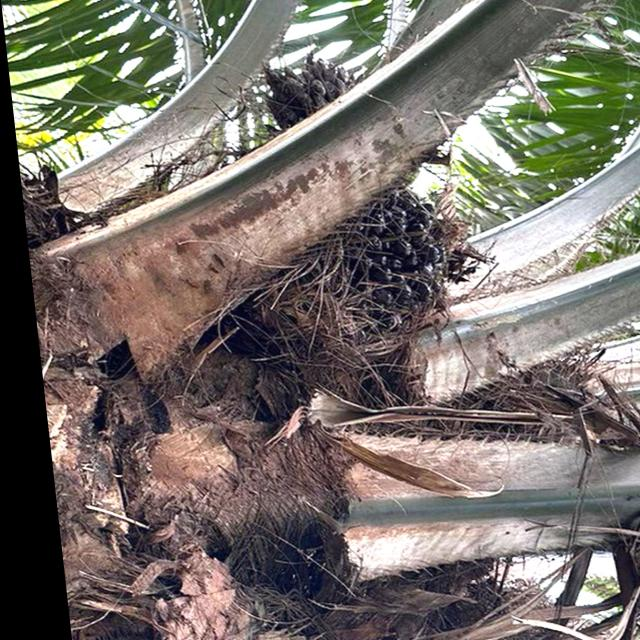almost: (243, 186, 455, 352), (259, 59, 370, 141)
